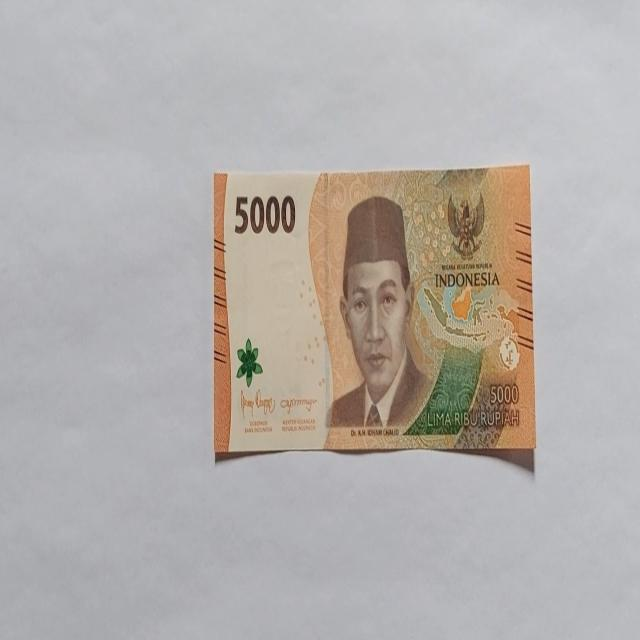lima ribu rupiah: (213, 165, 535, 464), (324, 193, 434, 434)
